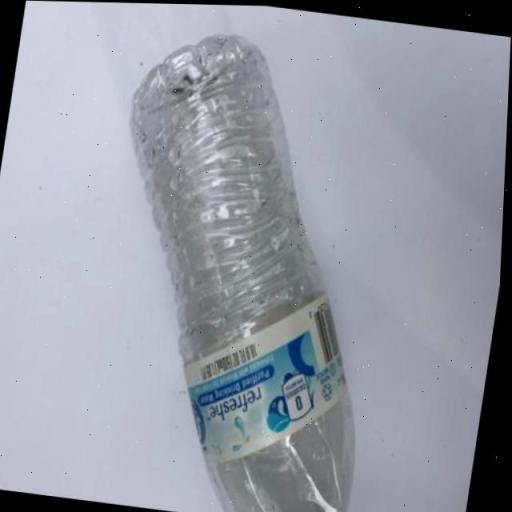plastic: (74, 21, 420, 512)
